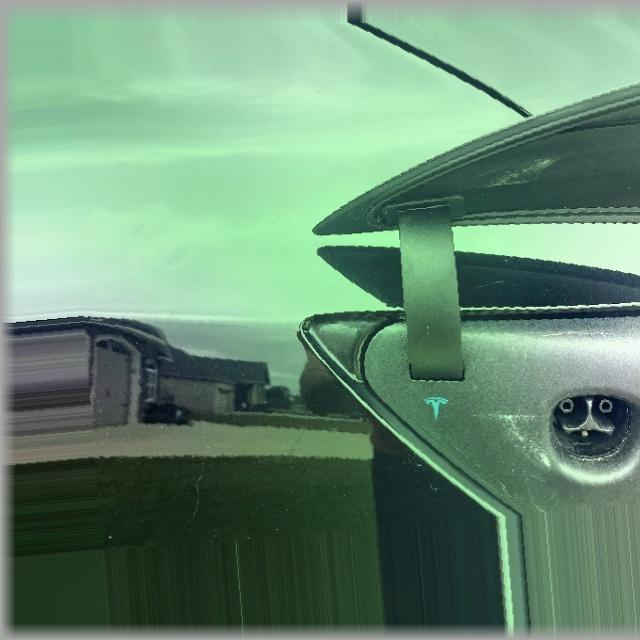Tesla Model-S-: (534, 372, 640, 495)
